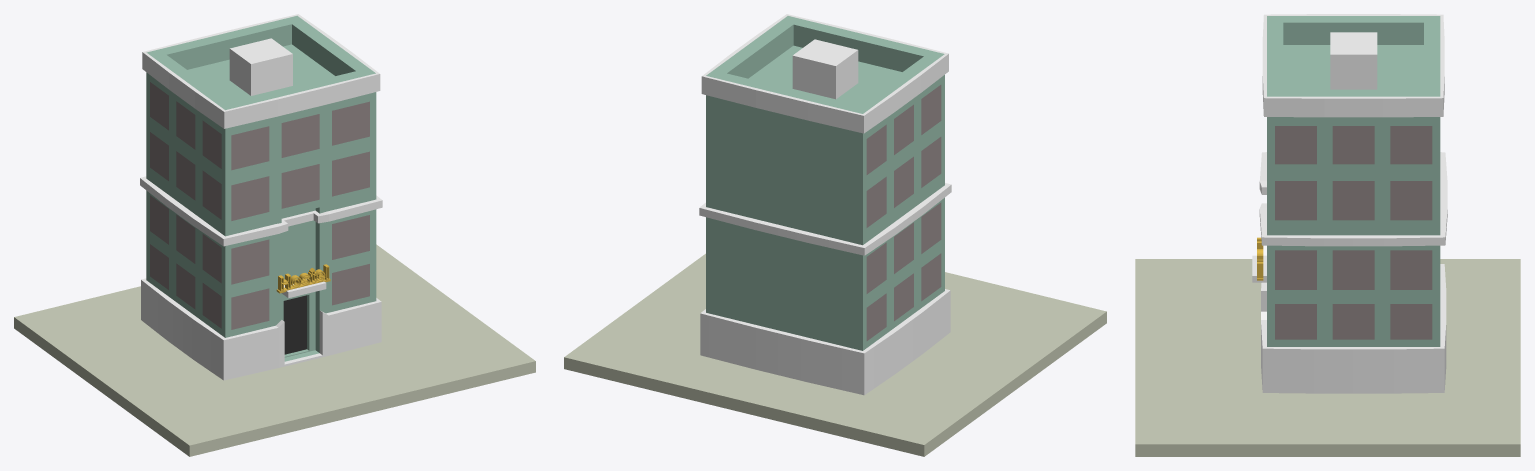
File: xjam hostel.fbx
3 views of the same model, side by side, from view 1: azimuth 30°, elevation 25°; view 2: azimuth 150°, elevation 25°; view 3: azimuth 270°, elevation 25° (orthographic). The views are drawn at different scales.
Parts seen in each view (by area): view 1: Box001, Box002; view 2: Box001, Box002; view 3: Box001, Box002.
Boxes of the visible parts, x1,y1,x2,y2 form: Box001: (140, 14, 382, 380); Box002: (14, 244, 535, 456); Box001: (699, 14, 951, 395); Box002: (564, 253, 1106, 456); Box001: (1252, 14, 1447, 393); Box002: (1135, 259, 1520, 456).
Bounding box in the file's own units: 1705 × 1370 × 1497.
